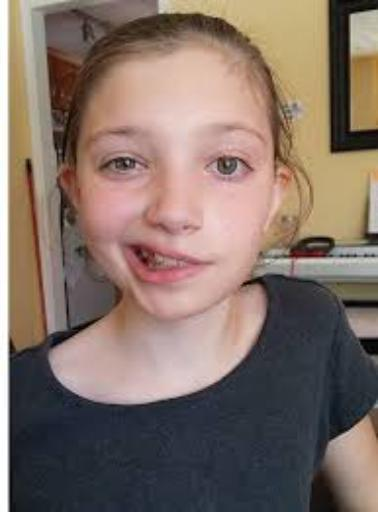left_eye: (204, 156, 256, 183)
left_lip_corner: (204, 257, 222, 273)
right_eye: (98, 156, 150, 180)
right_lip_corner: (121, 236, 140, 257)
